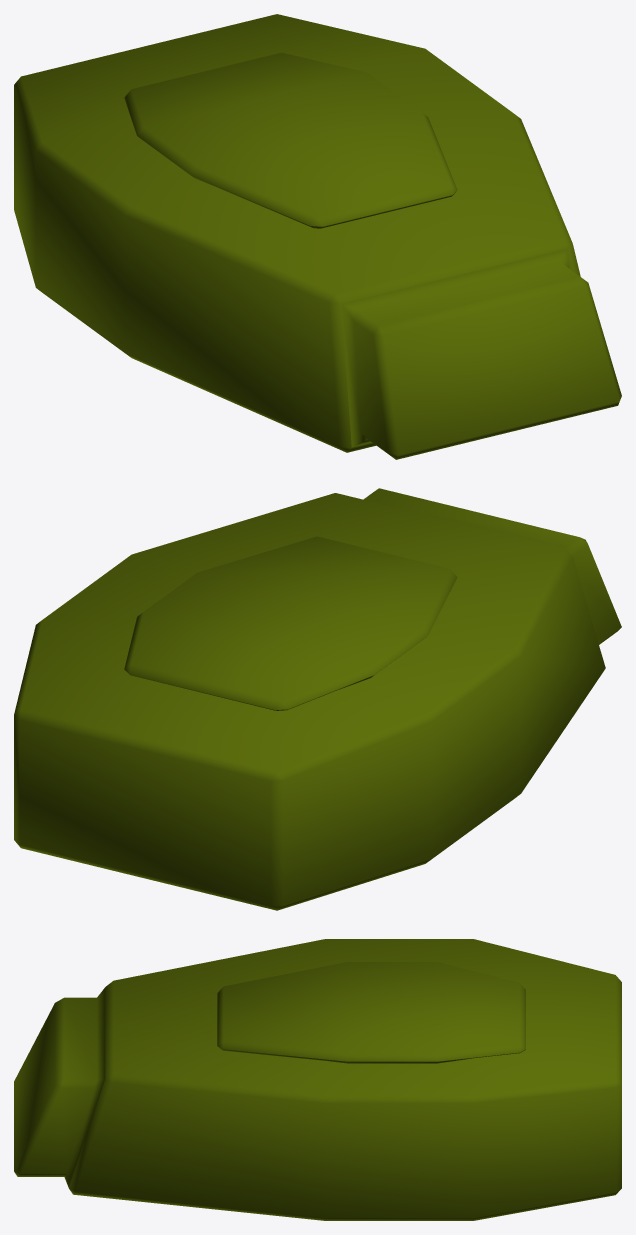
File: tank1_turret.glb
3 renders of one model, top to bottom at view 1: azimuth 30°, elevation 25°; view 2: azimuth 150°, elevation 25°; view 3: azimuth 270°, elevation 25°, orthographic. The views are drawn at different scales.
Parts seen in each view (by area): view 1: turret; view 2: turret; view 3: turret.
Part boxes in pixels (bbox=[...]): turret: bbox=[14, 14, 621, 459]; turret: bbox=[14, 488, 621, 910]; turret: bbox=[14, 939, 621, 1220].
Bounding box in the file's own units: 0.5695 × 0.2228 × 0.9061.
